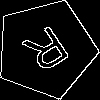R: (20, 24, 78, 82)
